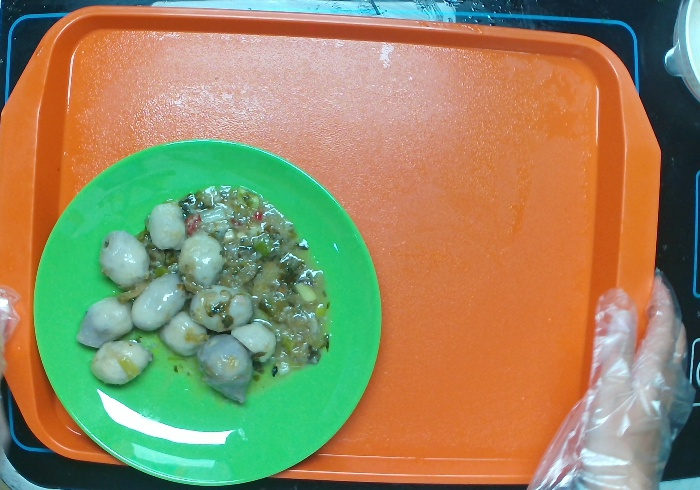HZYJPL-Lv_Se_Yuan_Pan: (31, 134, 382, 487)
